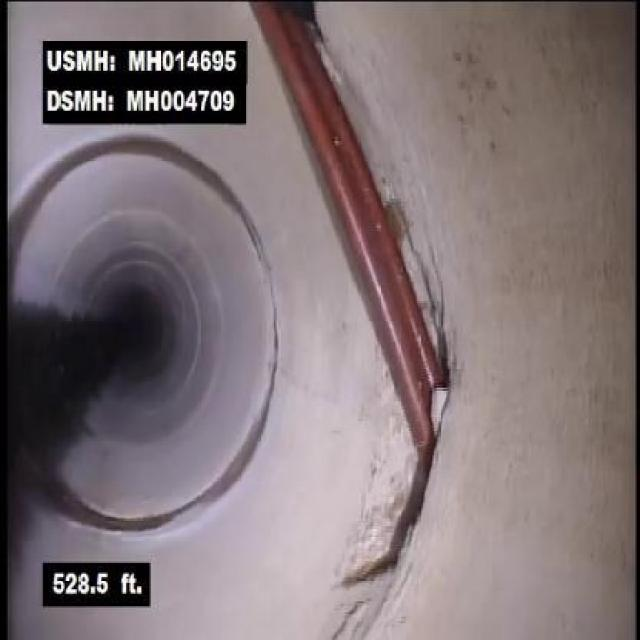Utility intrusion: (251, 8, 483, 489)
